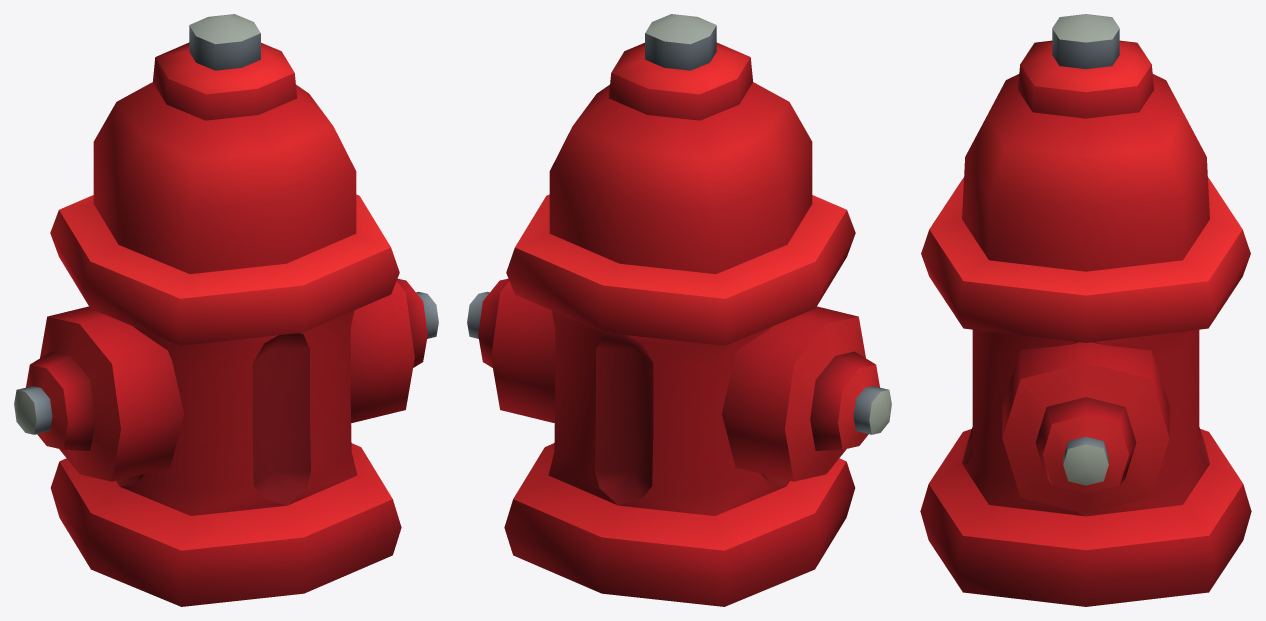
Rendered from fire_hydrant_LOD_setup.fbx.
3 renders of one model, left to right at view 1: azimuth 30°, elevation 25°; view 2: azimuth 150°, elevation 25°; view 3: azimuth 270°, elevation 25°, orthographic.
Visible parts, largest first — view 1: fire_hydrant_LOD0; view 2: fire_hydrant_LOD0; view 3: fire_hydrant_LOD0.
Part boxes in pixels (left/top/right/bottom): fire_hydrant_LOD0: left=14, top=14, right=438, bottom=606; fire_hydrant_LOD0: left=467, top=14, right=891, bottom=606; fire_hydrant_LOD0: left=920, top=14, right=1251, bottom=606.
Size of what is drawn, in the model's own units: 97.71 by 117 by 66.77.
